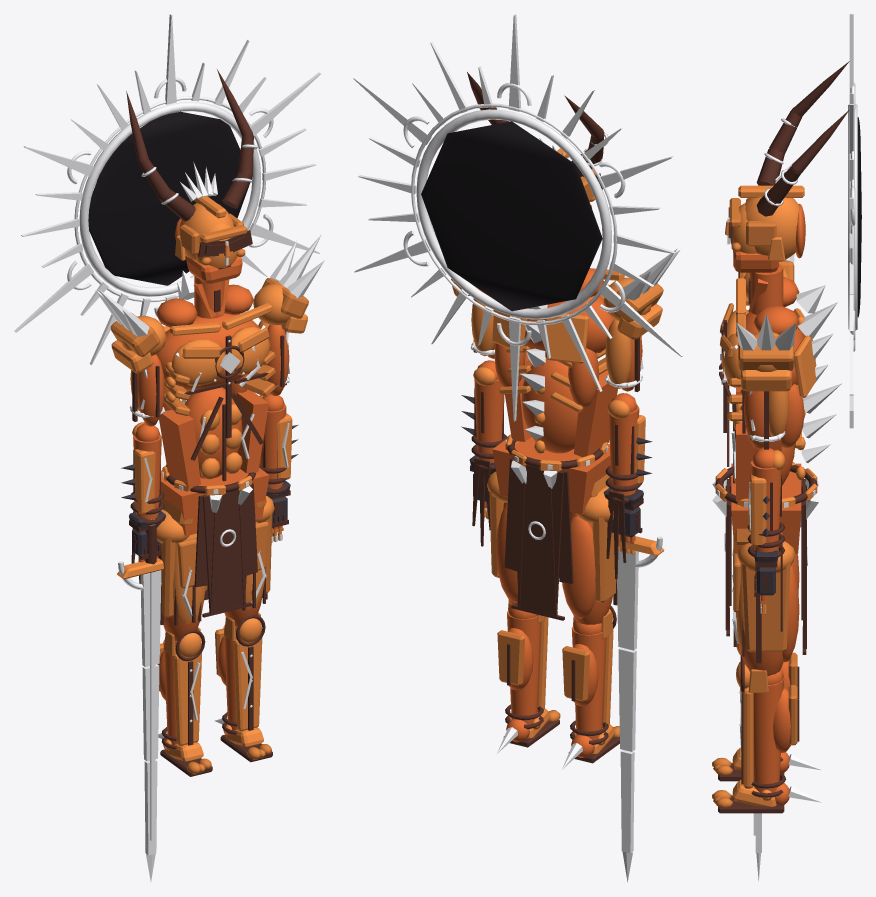
Rendered from morningstar.glb.
3 renders of one model, left to right at view 1: azimuth 30°, elevation 25°; view 2: azimuth 150°, elevation 25°; view 3: azimuth 270°, elevation 25°, orthographic. The views are drawn at different scales.
Visible parts, largest first — view 1: obsidian*0.2, plate.102, char.017, blood.017, blood.012, blood.020, ember.003, ember.008, blood.013, plate.139, blood.014, plate.136 (+31 smaller); view 2: obsidian*0.2, plate.102, char.023, blood.013, blood.012, plate.103, blood.007, blood.017, plate.136, blood.009, blood.003, plate.137 (+26 smaller); view 3: ember*0.001, blood.003, blood.012, ember.036, blood.014, plate.102, ember*0.026, blood.021, blood.028, ember.043, ember.040, ember.003 (+49 smaller).
Boxes of the visible parts, <box> form: obsidian*0.2: <box>88,111,249,285</box>; plate.102: <box>79,101,260,296</box>; char.017: <box>203,485,251,612</box>; blood.017: <box>159,410,200,488</box>; blood.012: <box>161,467,269,535</box>; blood.020: <box>156,313,260,390</box>; ember.003: <box>233,638,262,731</box>; ember.008: <box>173,653,201,745</box>; blood.013: <box>185,387,242,478</box>; plate.139: <box>150,572,155,840</box>; blood.014: <box>236,389,268,473</box>; plate.136: <box>140,570,161,666</box>; obsidian*0.2: <box>421,121,602,311</box>; plate.102: <box>416,109,611,319</box>; char.023: <box>511,460,563,615</box>; blood.013: <box>521,358,578,453</box>; blood.012: <box>492,437,610,514</box>; plate.103: <box>411,103,617,325</box>; blood.007: <box>562,516,595,618</box>; blood.017: <box>573,370,617,457</box>; plate.136: <box>617,549,638,650</box>; blood.009: <box>571,626,606,740</box>; blood.003: <box>507,610,541,724</box>; plate.137: <box>618,647,636,751</box>; ember*0.001: <box>742,563,790,652</box>; blood.003: <box>753,678,784,792</box>; blood.012: <box>731,463,801,553</box>; ember.036: <box>745,197,805,261</box>; blood.014: <box>736,424,781,501</box>; plate.102: <box>848,104,857,330</box>; ember*0.026: <box>738,336,794,370</box>; blood.021: <box>749,264,783,314</box>; blood.028: <box>750,460,781,552</box>; ember.043: <box>750,474,766,546</box>; ember.040: <box>741,370,791,391</box>; ember.003: <box>743,687,753,788</box>.
Bounding box in the file's own units: 1.52 × 3.91 × 0.588.
